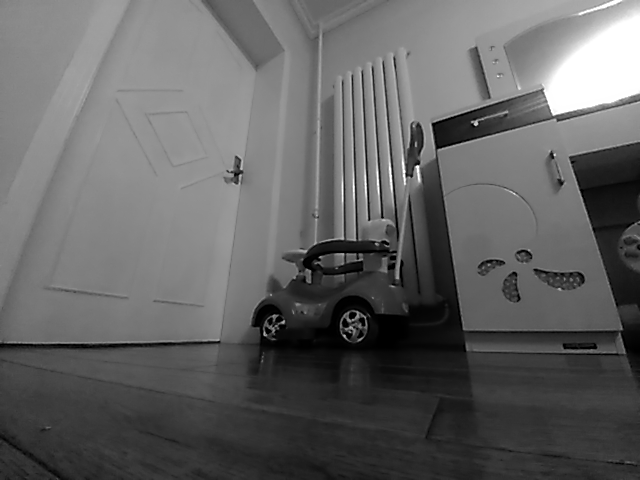toy: (248, 257, 412, 344)
